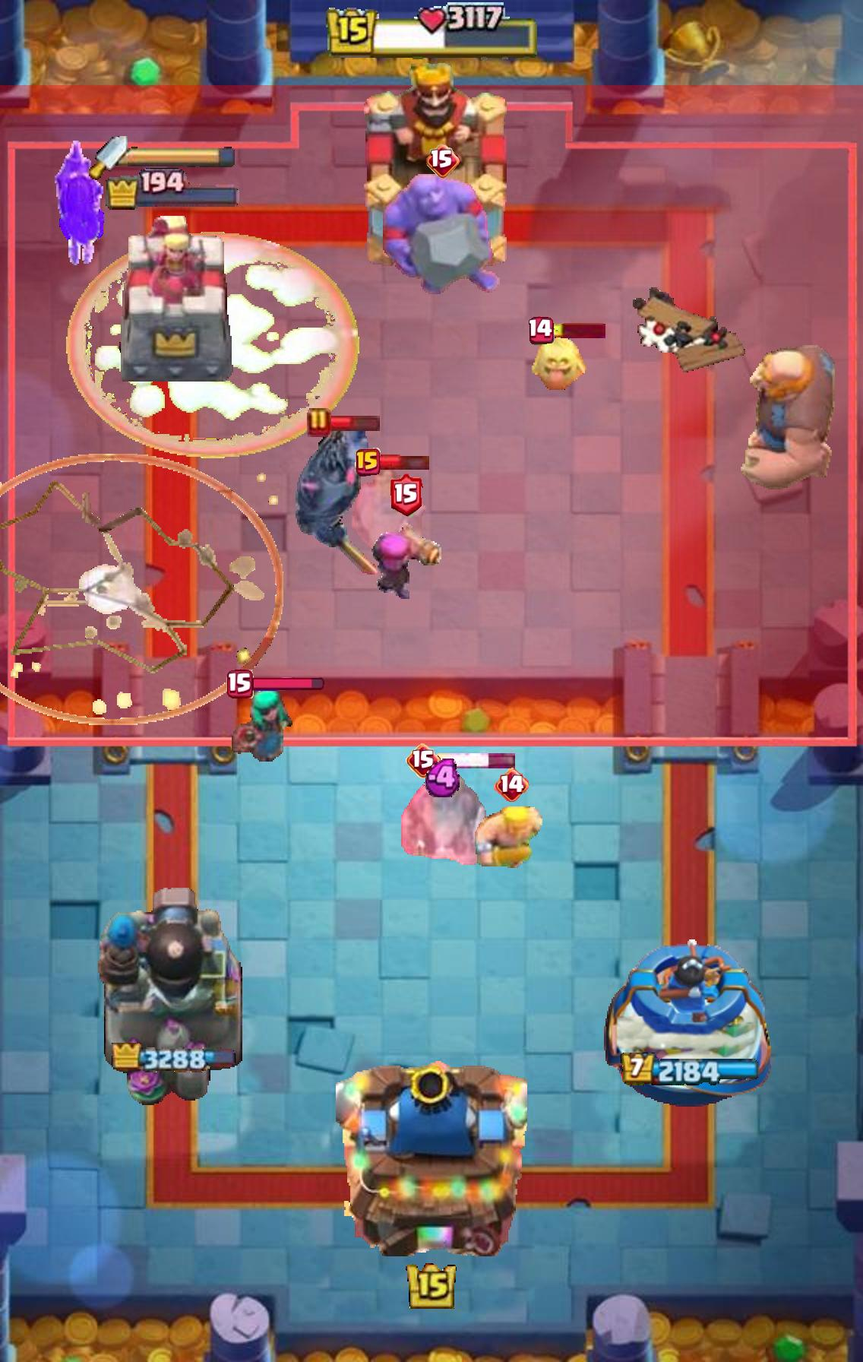bar: (437, 752, 517, 769), (377, 452, 430, 472), (250, 677, 324, 691), (327, 413, 381, 432), (551, 323, 605, 338)
bar-level: (391, 473, 424, 518), (406, 743, 441, 778), (494, 767, 530, 801), (427, 144, 461, 179), (226, 670, 254, 698), (529, 316, 555, 345), (355, 448, 381, 477), (307, 407, 331, 438)
